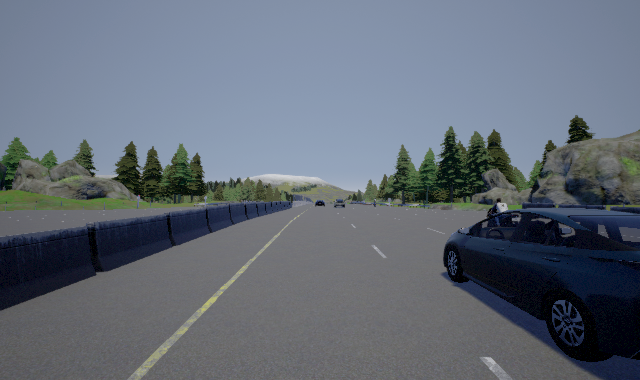motobike: (485, 198, 513, 233)
vehicle: (443, 208, 640, 362), (332, 198, 346, 209), (313, 197, 325, 208)
